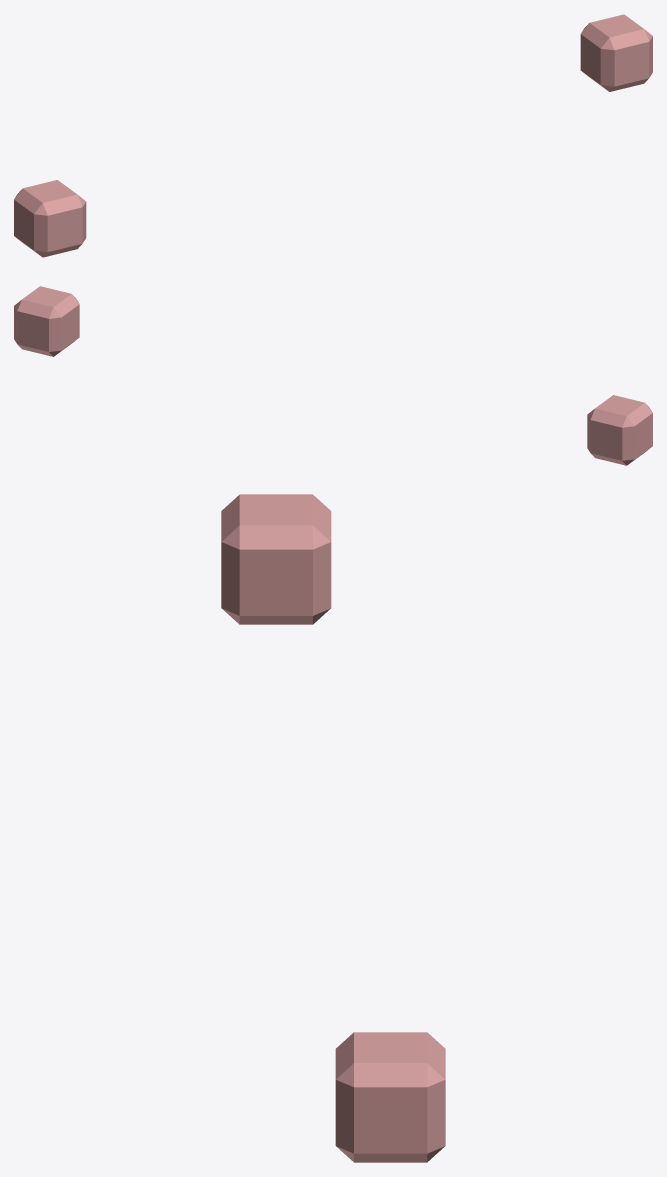
File: orb4_near_variant_1.glb
The picture shows the model from 3 angles, top to bottom: view 1: azimuth 30°, elevation 25°; view 2: azimuth 150°, elevation 25°; view 3: azimuth 270°, elevation 25°; orthographic projection. The views are drawn at different scales.
Visible parts, largest first — view 1: orb4_near_variant_1__orb3-rose-sugar; view 2: orb4_near_variant_1__orb3-rose-sugar; view 3: orb4_near_variant_1__orb3-rose-sugar.
Part boxes in pixels (bbox=[...]): orb4_near_variant_1__orb3-rose-sugar: bbox=[14, 14, 652, 257]; orb4_near_variant_1__orb3-rose-sugar: bbox=[14, 286, 652, 465]; orb4_near_variant_1__orb3-rose-sugar: bbox=[221, 494, 445, 1162].
Size of the model in its own units: 5.98 by 0.51 by 0.98.
